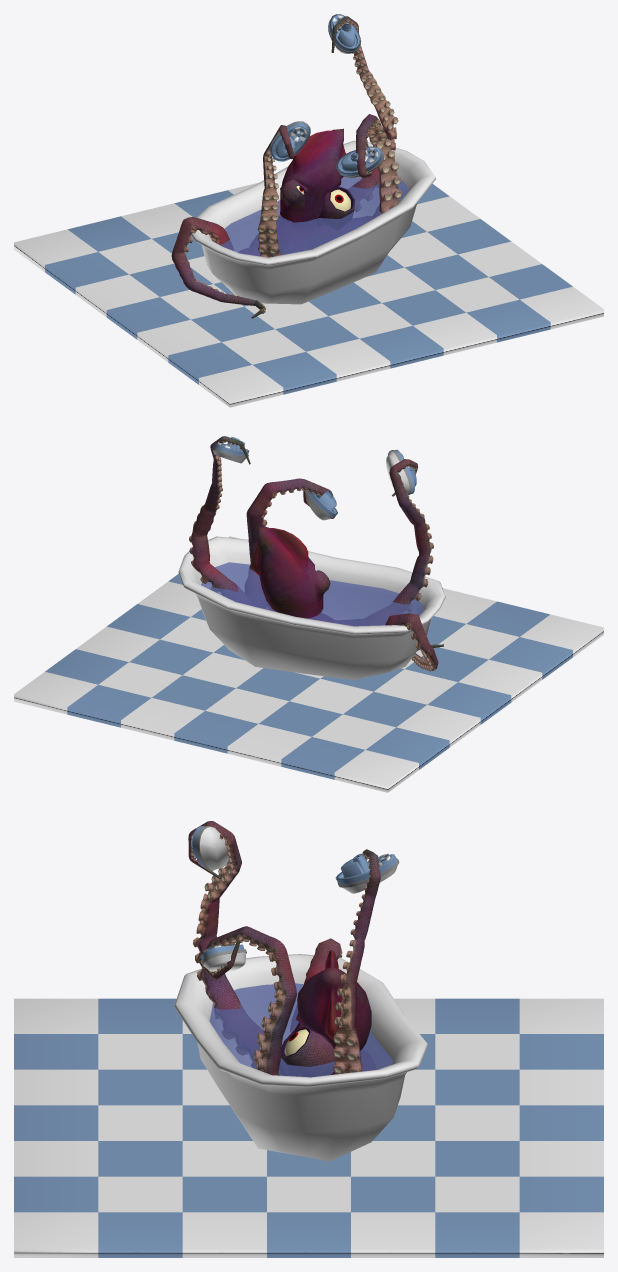
Rendered from Squid_Static.fbx.
3 views of the same model, one above another, from view 1: azimuth 30°, elevation 25°; view 2: azimuth 150°, elevation 25°; view 3: azimuth 270°, elevation 25° (orthographic). The views are drawn at different scales.
Visible parts, largest first — view 1: Squid_Geo; view 2: Squid_Geo; view 3: Squid_Geo.
Boxes of the visible parts, x1=… form: Squid_Geo: x1=14, y1=14, x2=603, y2=407; Squid_Geo: x1=14, y1=436, x2=603, y2=792; Squid_Geo: x1=14, y1=821, x2=603, y2=1257.
Size of the model in its own units: 8.96 by 5.38 by 8.96.
